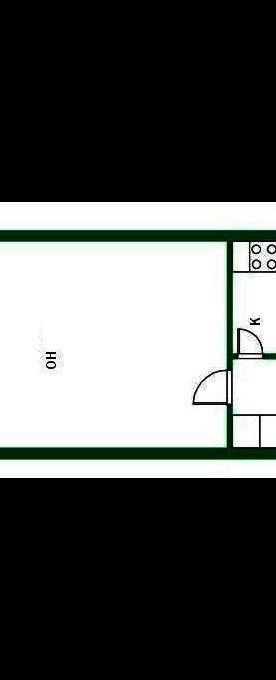door: (190, 367, 232, 410), (234, 327, 264, 362)
